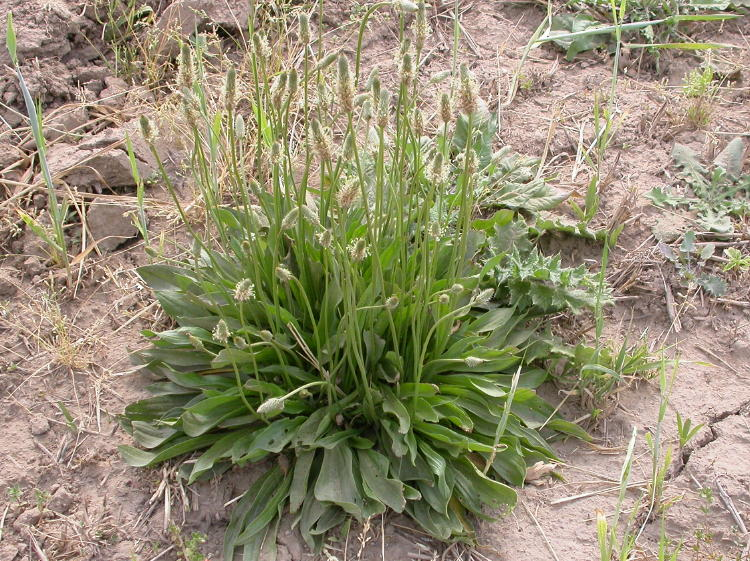buckhorn plantain: (107, 8, 554, 516)
